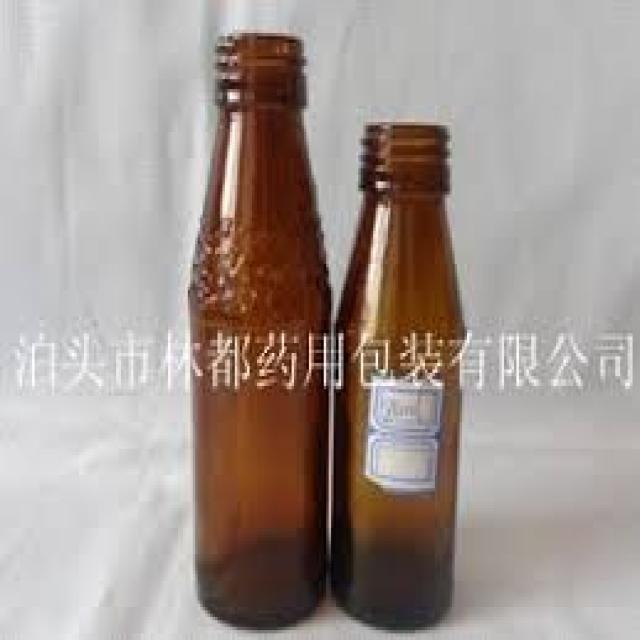glass: (183, 30, 324, 624), (331, 119, 460, 623)
